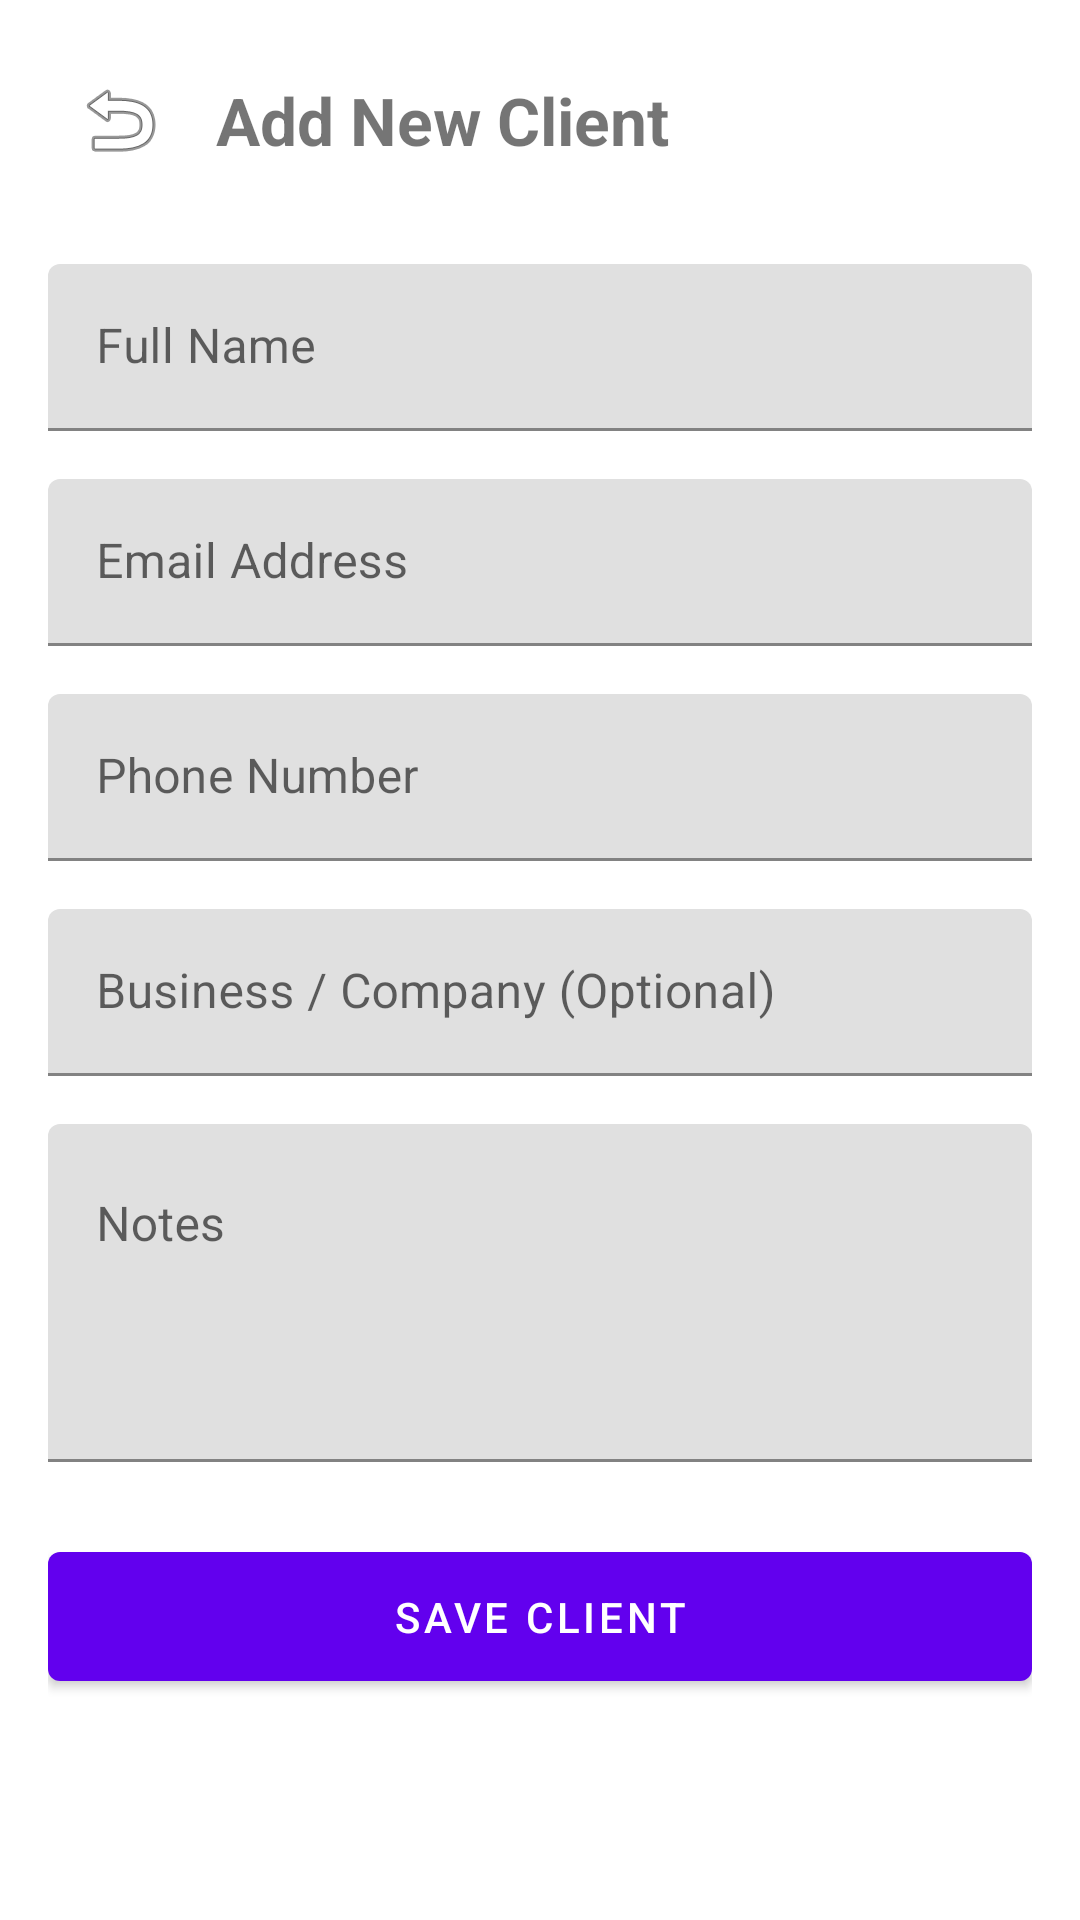

Where icons sit on this 1080 × 1920 app screen, as [left=x1, top=y1, right=x2, bottom=y2]:
Back: [left=87, top=89, right=156, bottom=152]
